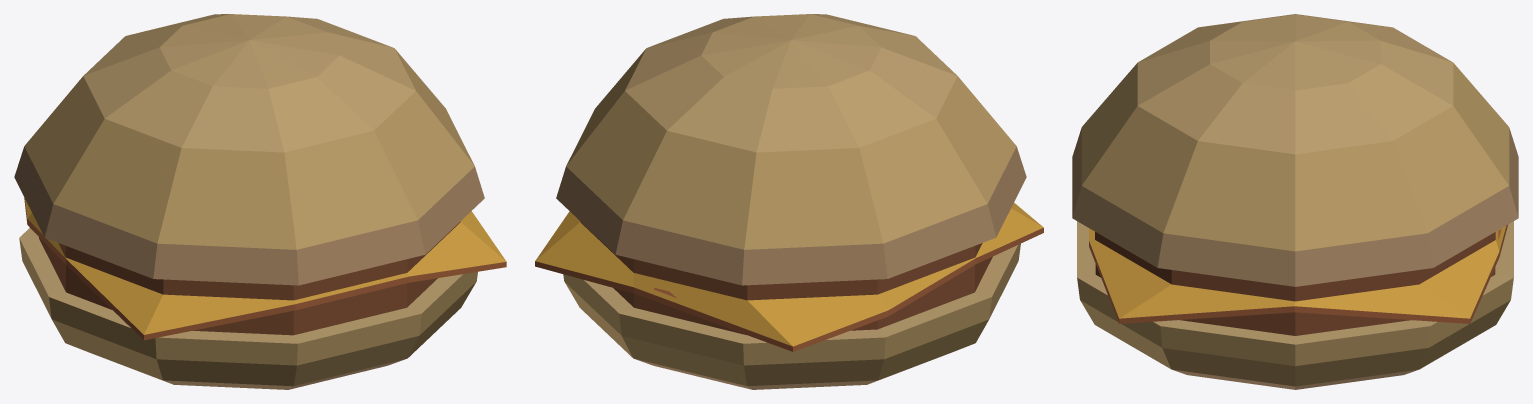
The model's file is Burger.fbx.
The picture shows the model from 3 angles, left to right: view 1: azimuth 30°, elevation 25°; view 2: azimuth 150°, elevation 25°; view 3: azimuth 270°, elevation 25°; orthographic projection.
Visible parts, largest first — view 1: 6 burger; view 2: 6 burger; view 3: 6 burger.
Boxes of the visible parts, <box> form: 6 burger: <box>14,14,506,389</box>; 6 burger: <box>535,14,1043,389</box>; 6 burger: <box>1072,14,1518,389</box>.
Bounding box in the file's own units: 35.2 × 23.41 × 33.48.
